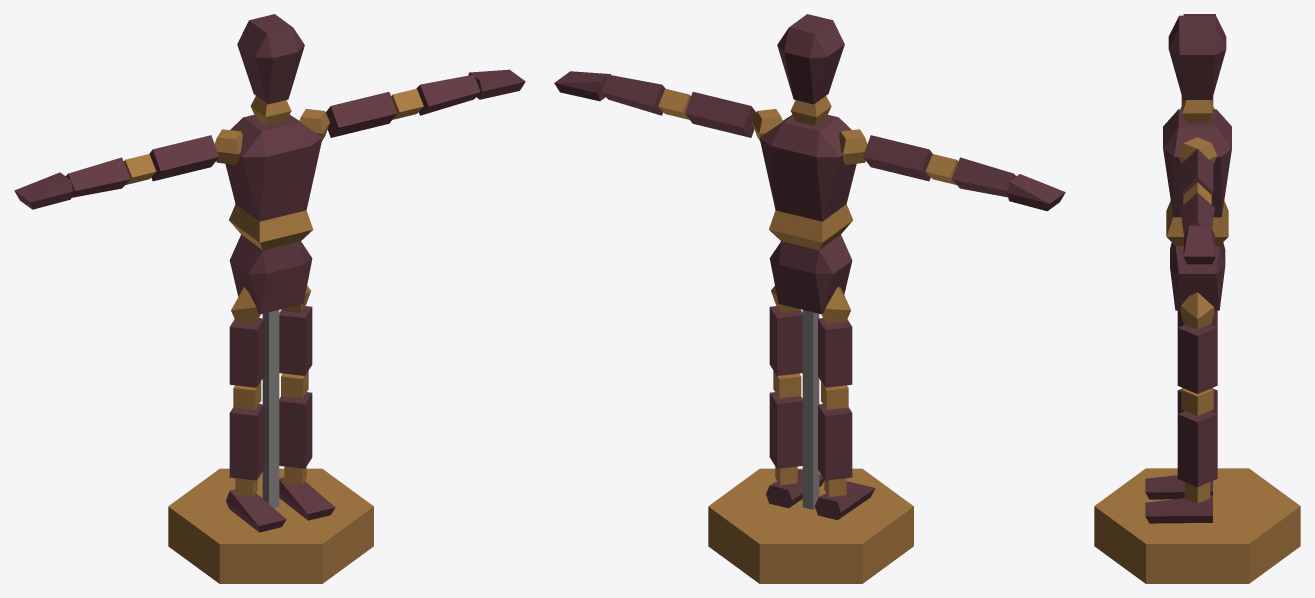
The model's file is dummy-small_T.fbx.
The picture shows the model from 3 angles, left to right: view 1: azimuth 30°, elevation 25°; view 2: azimuth 150°, elevation 25°; view 3: azimuth 270°, elevation 25°; orthographic projection.
Parts seen in each view (by area): view 1: dummy-small_T; view 2: dummy-small_T; view 3: dummy-small_T.
Boxes of the visible parts, <box> form: dummy-small_T: <box>14,14,525,583</box>; dummy-small_T: <box>554,14,1065,583</box>; dummy-small_T: <box>1094,14,1300,583</box>.
Size of the model in its own units: 0.3626 by 0.3653 by 0.1304.
